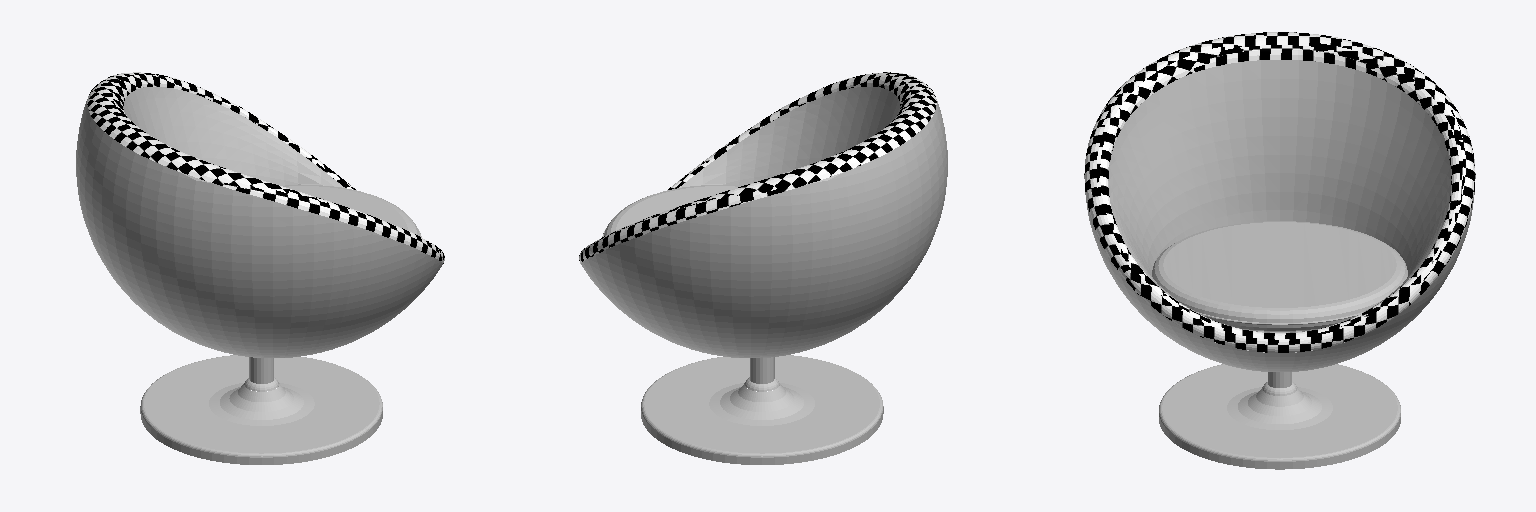
3 views of the same model, side by side, from view 1: azimuth 30°, elevation 25°; view 2: azimuth 150°, elevation 25°; view 3: azimuth 270°, elevation 25° (orthographic).
Visible parts, largest first — view 1: mesh5.001_mesh5-geometry, mesh2.001_mesh2-geometry, mesh4.001_mesh4-geometry, mesh6.001_mesh6-geometry, mesh3.001_mesh3-geometry, mesh1.001_mesh1-geometry; view 2: mesh5.001_mesh5-geometry, mesh2.001_mesh2-geometry, mesh4.001_mesh4-geometry, mesh6.001_mesh6-geometry, mesh3.001_mesh3-geometry, mesh1.001_mesh1-geometry; view 3: mesh4.001_mesh4-geometry, mesh6.001_mesh6-geometry, mesh3.001_mesh3-geometry, mesh2.001_mesh2-geometry, mesh5.001_mesh5-geometry, mesh1.001_mesh1-geometry.
Part boxes in pixels (left/top/right/bottom): mesh5.001_mesh5-geometry: left=76, top=87, right=442, bottom=357; mesh2.001_mesh2-geometry: left=140, top=355, right=382, bottom=464; mesh4.001_mesh4-geometry: left=124, top=87, right=413, bottom=247; mesh6.001_mesh6-geometry: left=87, top=72, right=444, bottom=263; mesh3.001_mesh3-geometry: left=283, top=185, right=419, bottom=235; mesh1.001_mesh1-geometry: left=244, top=357, right=278, bottom=391; mesh5.001_mesh5-geometry: left=581, top=87, right=947, bottom=357; mesh2.001_mesh2-geometry: left=641, top=355, right=883, bottom=464; mesh4.001_mesh4-geometry: left=610, top=87, right=899, bottom=247; mesh6.001_mesh6-geometry: left=579, top=72, right=936, bottom=263; mesh3.001_mesh3-geometry: left=604, top=185, right=740, bottom=235; mesh1.001_mesh1-geometry: left=745, top=357, right=779, bottom=391; mesh4.001_mesh4-geometry: left=1109, top=60, right=1450, bottom=332; mesh6.001_mesh6-geometry: left=1084, top=32, right=1475, bottom=352; mesh3.001_mesh3-geometry: left=1152, top=221, right=1407, bottom=331; mesh2.001_mesh2-geometry: left=1159, top=364, right=1400, bottom=469; mesh5.001_mesh5-geometry: left=1084, top=61, right=1475, bottom=371; mesh1.001_mesh1-geometry: left=1263, top=372, right=1296, bottom=395.
Size of the model in its own units: 0.5609 by 0.5538 by 0.6154.
7 materials, 1 textured.